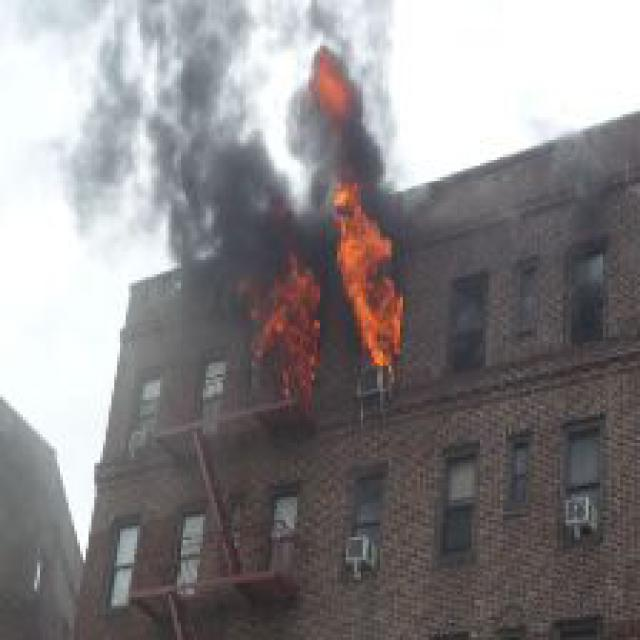fire: (300, 40, 414, 374), (226, 214, 343, 420)
